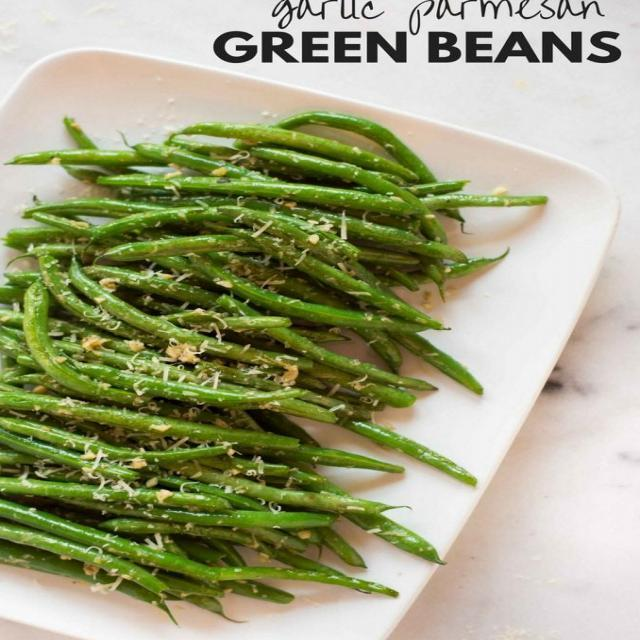Beans: (0, 66, 569, 639)
